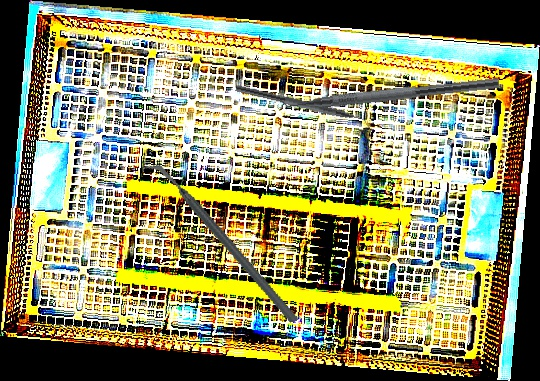Chopper: (144, 134, 299, 351), (265, 61, 501, 118), (232, 84, 375, 133)
